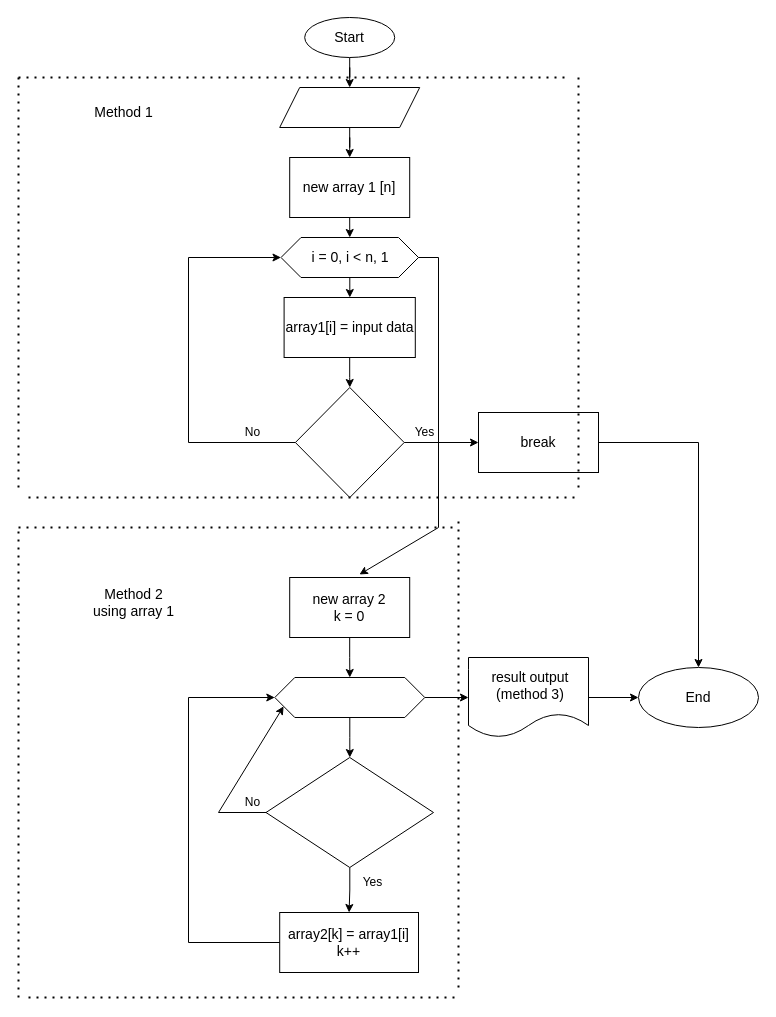
The diagram is 776 pixels wide and 1017 high, and some of its shapes have lost their labels. The centre of each missing label's shape, as x and y in pixels:
array1[i] == "": (x=349, y=442)
array1[i].Length < = 3: (x=349, y=812)
i=0, array1.Length, 1: (x=349, y=697)
input n: (x=349, y=107)
